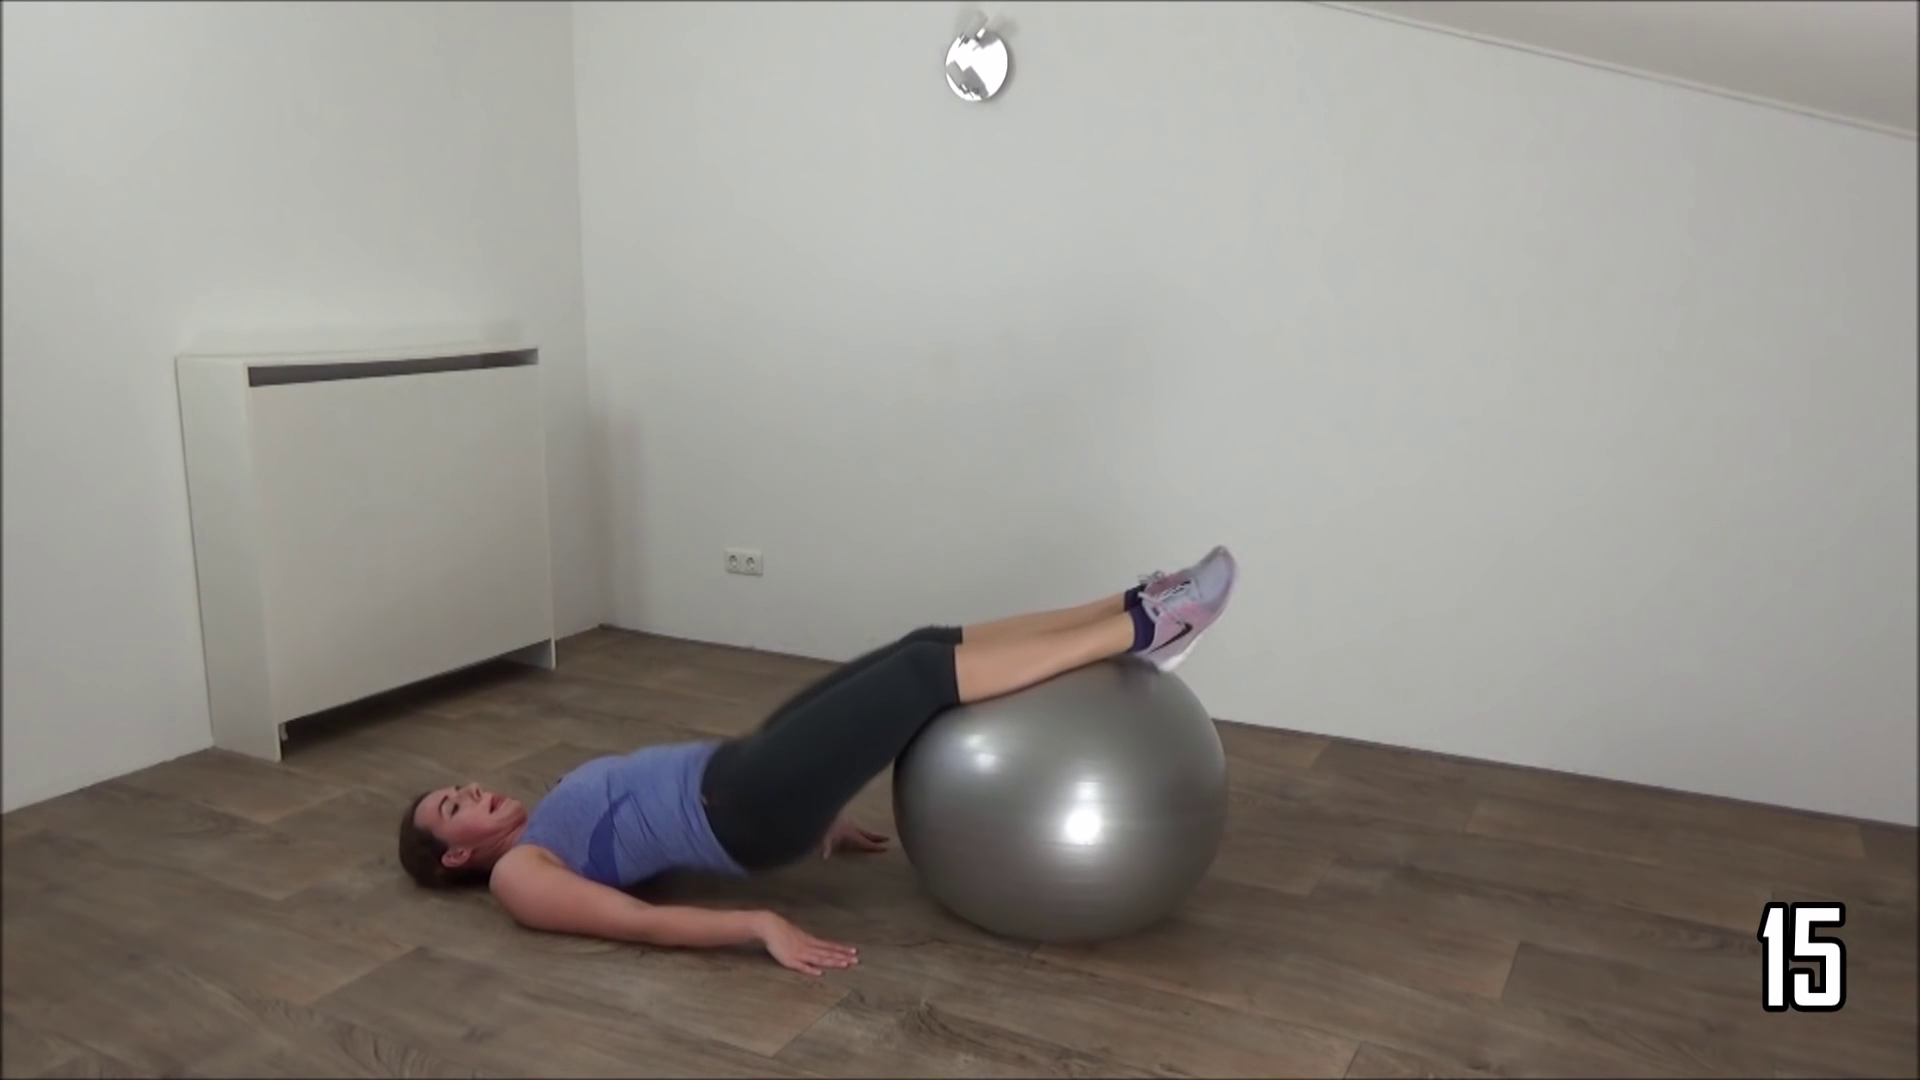yogaball: (884, 636, 1241, 957)
